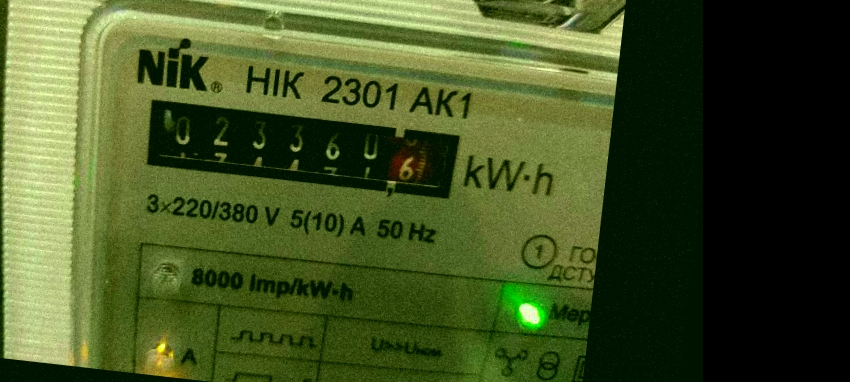0: (169, 112, 194, 147), (360, 129, 380, 162)
2: (207, 113, 234, 149)
3: (245, 117, 270, 151), (284, 121, 307, 153)
6: (320, 128, 343, 162), (393, 151, 417, 182)
screen: (123, 80, 474, 216)
